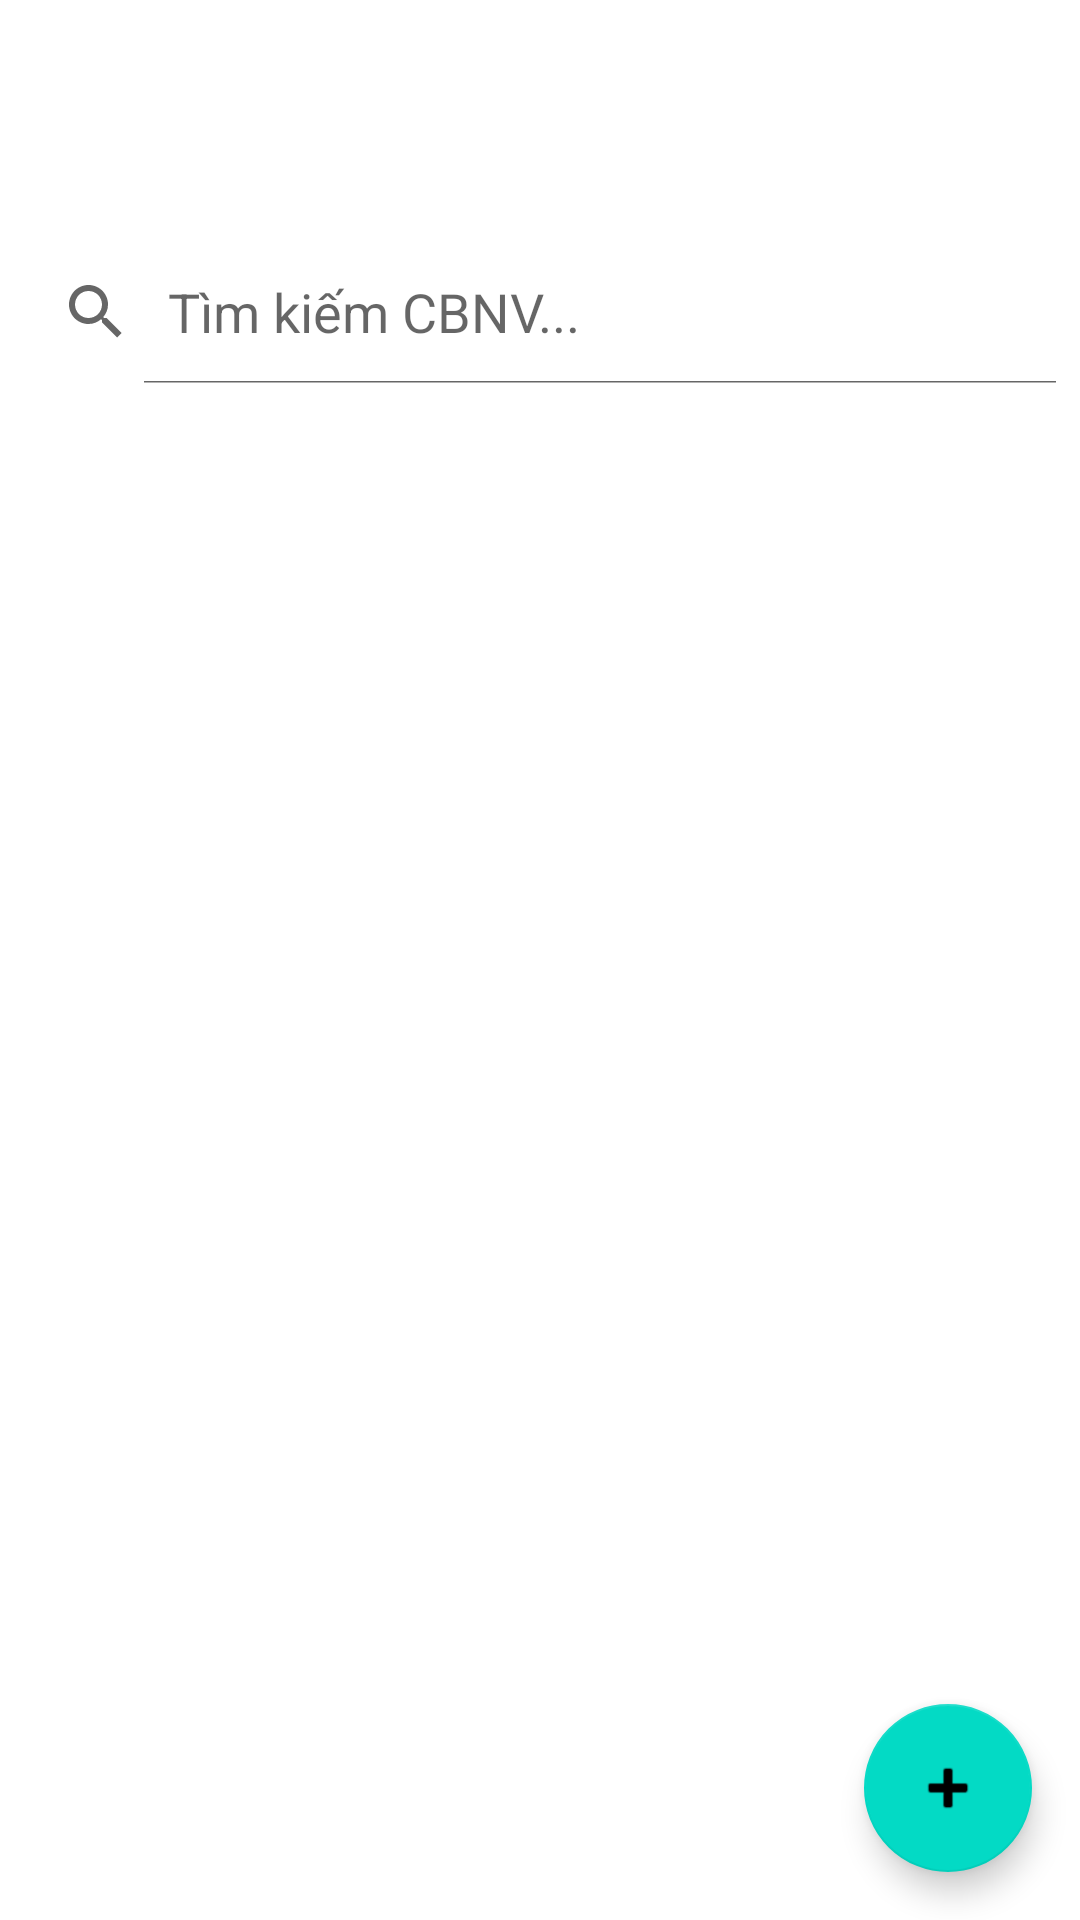

Locate icon controls on the screen. Image size 1080 x 1920, boxes as (left=x1, top=y1, right=x2, bottom=y2).
Thêm CBNV mới: (left=864, top=1704, right=1032, bottom=1872)
